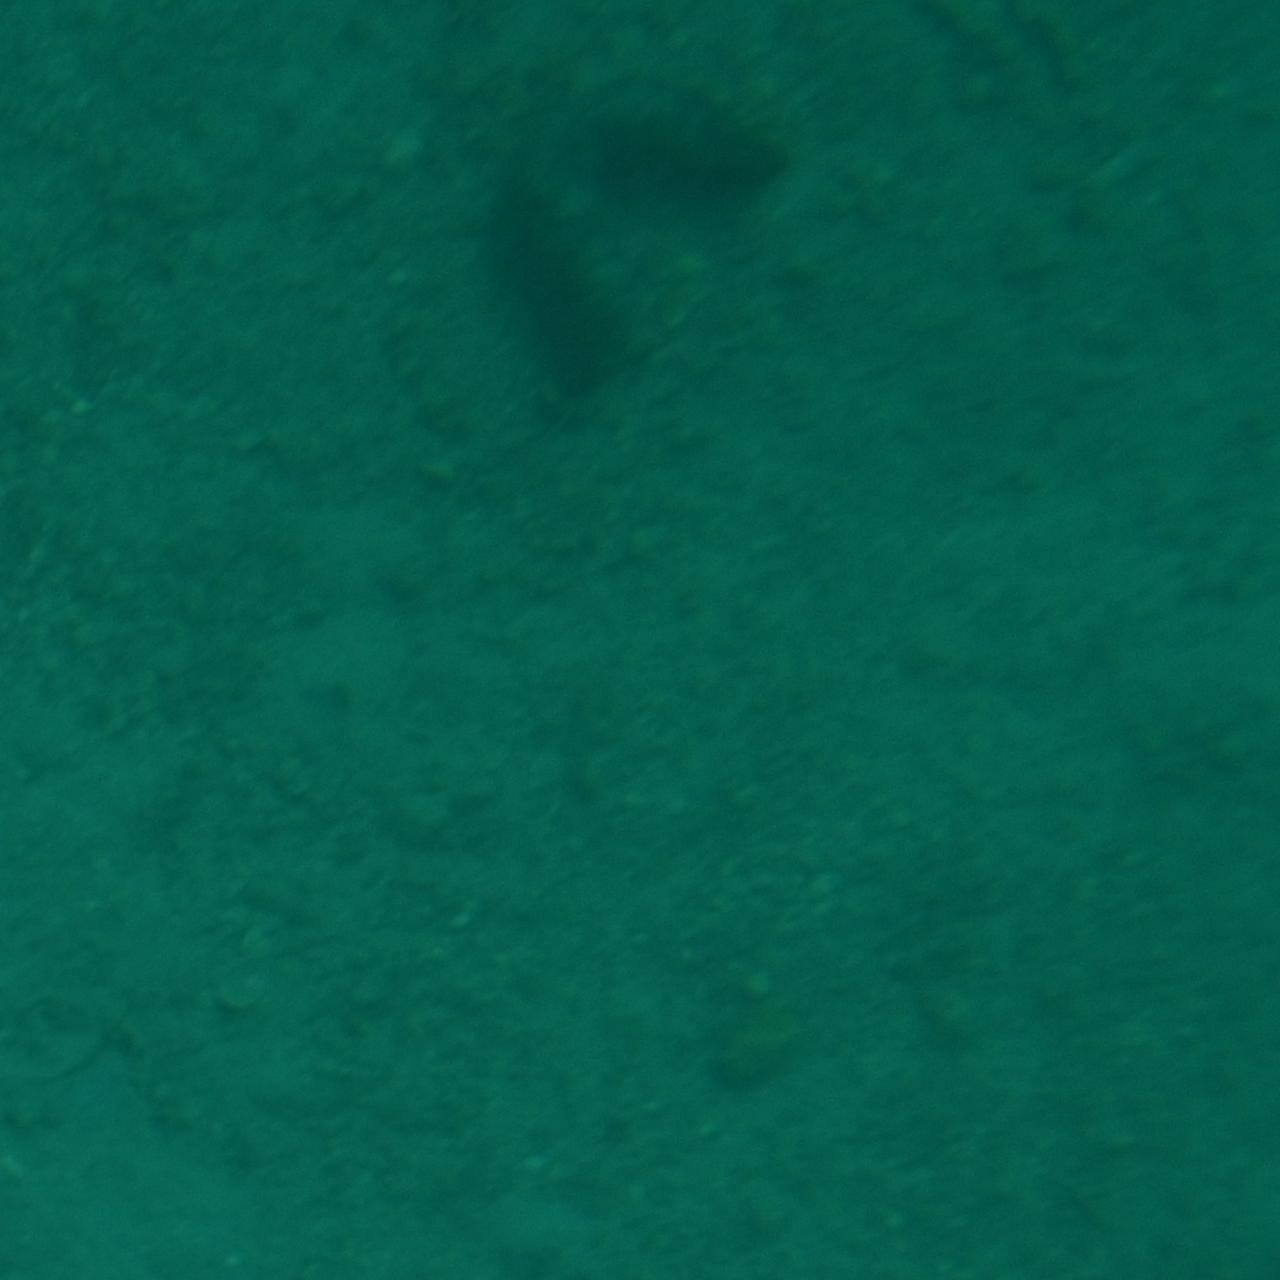Holothuria tubulosa: (486, 67, 794, 403)
